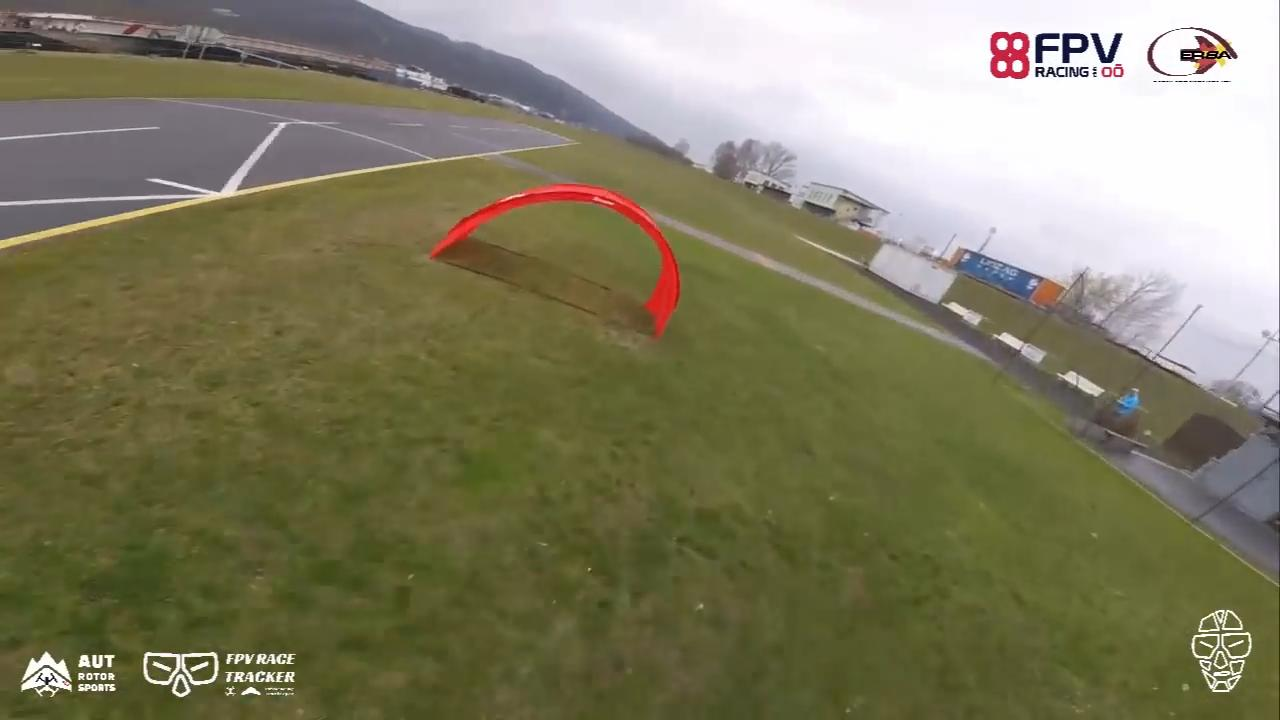gate: (424, 179, 686, 342)
